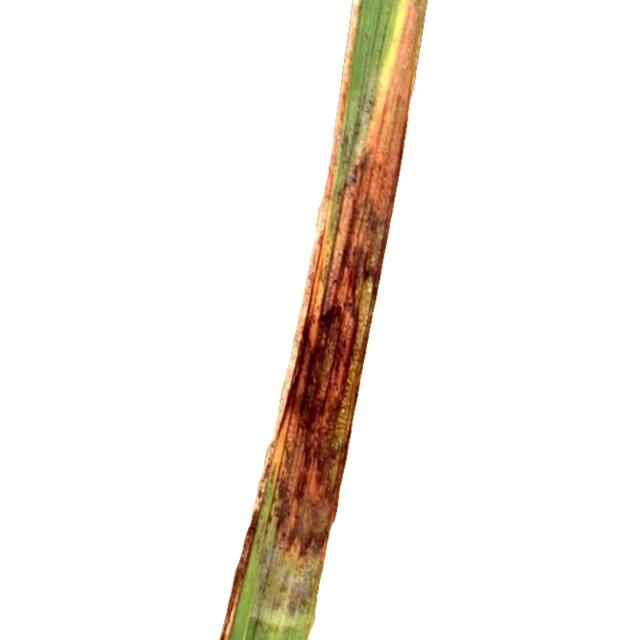Leaf scald: (183, 0, 611, 637)
